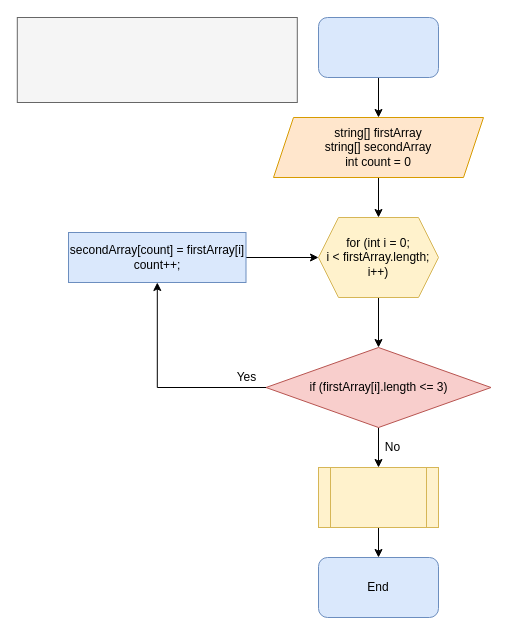
Image size: 509x635. Some labels were removed from this diagram. The box of each missing label's shape, as (x1, y1, x2, y2) in pixels:
PrintArray: (318, 466, 438, 528)
Start FillArray: (318, 16, 438, 78)
Описание работы метода FillArray: (16, 16, 297, 102)
